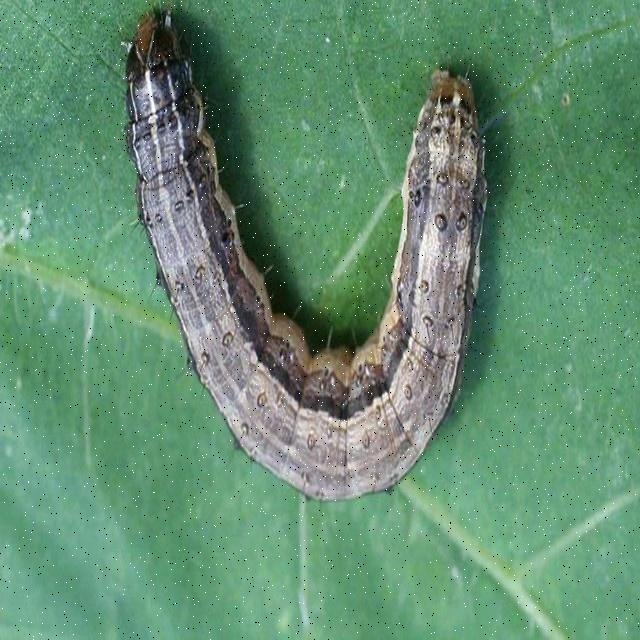worm: (122, 9, 490, 506)
